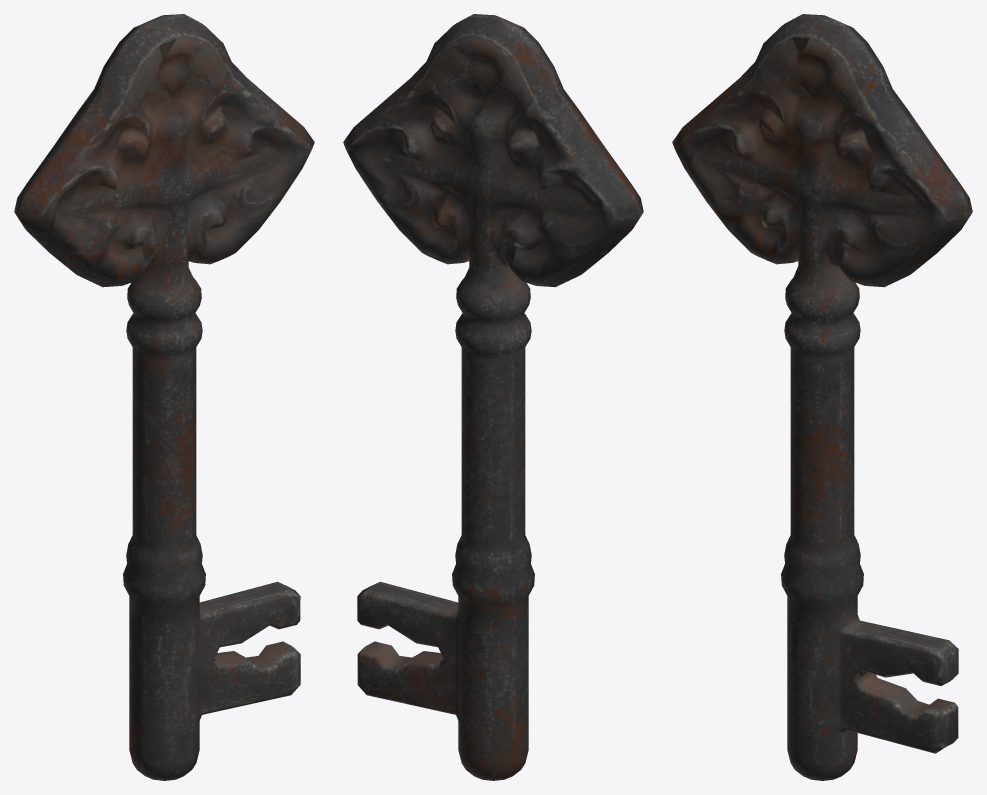
Rendered from key_04_black_iron.glb.
3 renders of one model, left to right at view 1: azimuth 30°, elevation 25°; view 2: azimuth 150°, elevation 25°; view 3: azimuth 330°, elevation 25°, orthographic.
Visible parts, largest first — view 1: Key; view 2: Key; view 3: Key.
Boxes of the visible parts, x1,y1,x2,y2 form: Key: (14, 14, 314, 780); Key: (343, 14, 643, 780); Key: (672, 14, 972, 780).
Bounding box in the file's own units: 0.0615 × 0.15 × 0.0149.
1 material, 1 textured.
